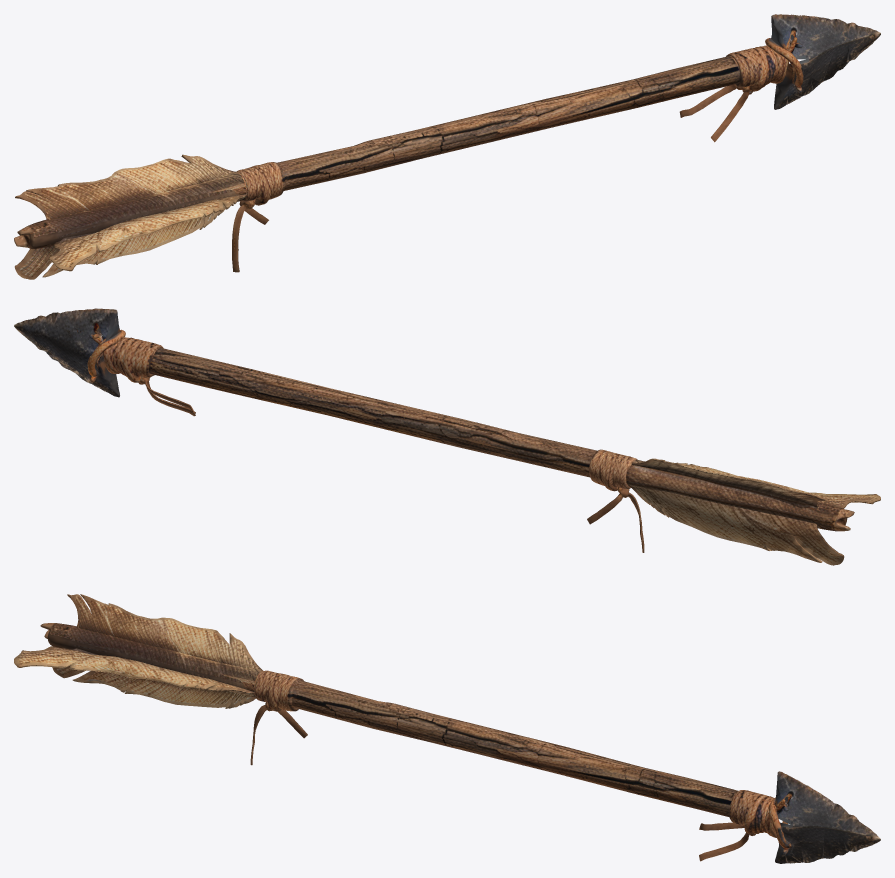
File: ARROW.glb
3 renders of one model, top to bottom at view 1: azimuth 30°, elevation 25°; view 2: azimuth 150°, elevation 25°; view 3: azimuth 330°, elevation 25°, orthographic. The views are drawn at different scales.
Visible parts, largest first — view 1: d7bafe85_03a8_43d7_aea8_c0dbe8895b01; view 2: d7bafe85_03a8_43d7_aea8_c0dbe8895b01; view 3: d7bafe85_03a8_43d7_aea8_c0dbe8895b01.
Part boxes in pixels (box(x1,y1,x2,y2)): d7bafe85_03a8_43d7_aea8_c0dbe8895b01: box(14, 14, 880, 279); d7bafe85_03a8_43d7_aea8_c0dbe8895b01: box(14, 308, 880, 565); d7bafe85_03a8_43d7_aea8_c0dbe8895b01: box(14, 594, 880, 863).
Bounding box in the file's own units: 0.9995 × 0.1343 × 0.1118.
Materials: 1 (1 with a texture image).
